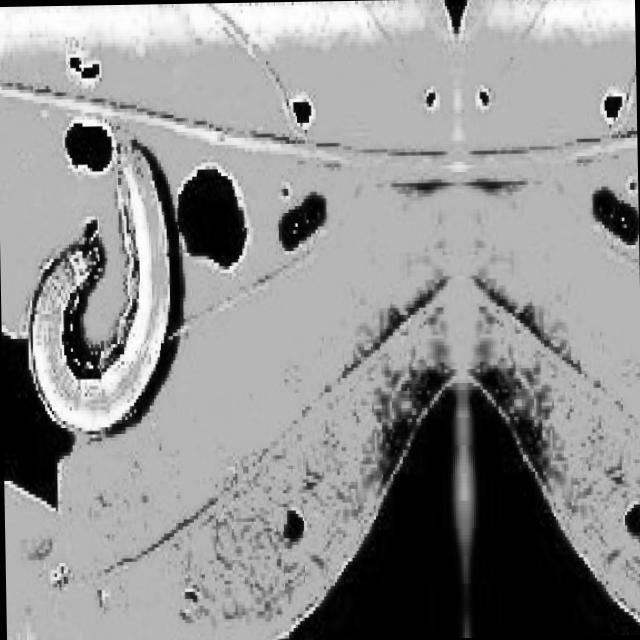Armyworm: (12, 138, 189, 468)
Armyworm_damage: (169, 143, 257, 286)
